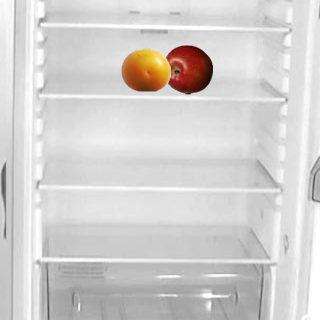Apple Braeburn: (162, 44, 212, 94)
Cherry Wax Yellow: (120, 44, 170, 94)
